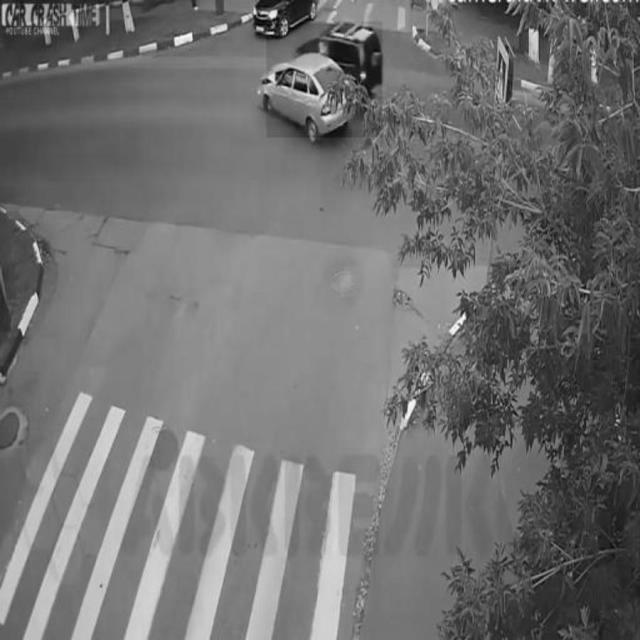accident: (267, 22, 383, 138)
vehicle: (255, 1, 316, 36)
